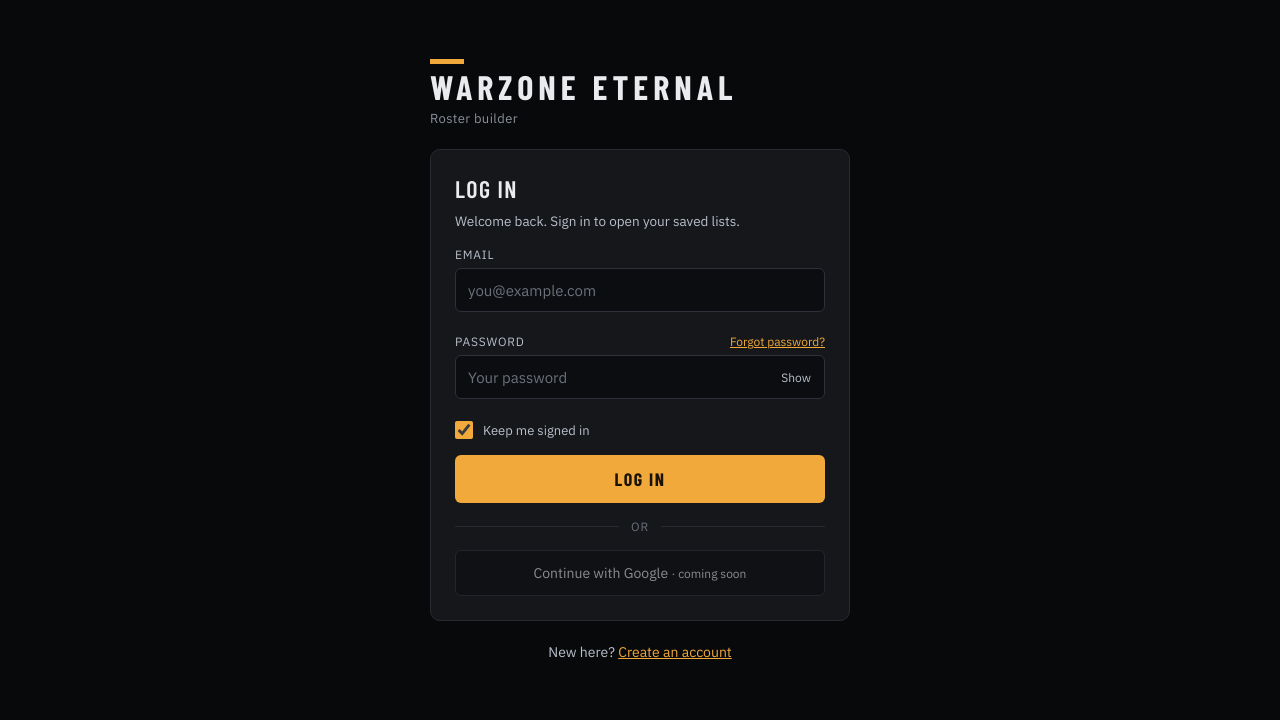
Scenario: builder › asks before leaving with unsaved changes
Type "demo@example.com" into the field labelled "Email".
click(640, 290); type("demo@example.com")  # box left=455, top=268, right=825, bottom=312
Type "Demo1234!" into the password field labelled "Password".
click(640, 377); type("Demo1234!")  # box left=455, top=355, right=825, bottom=399
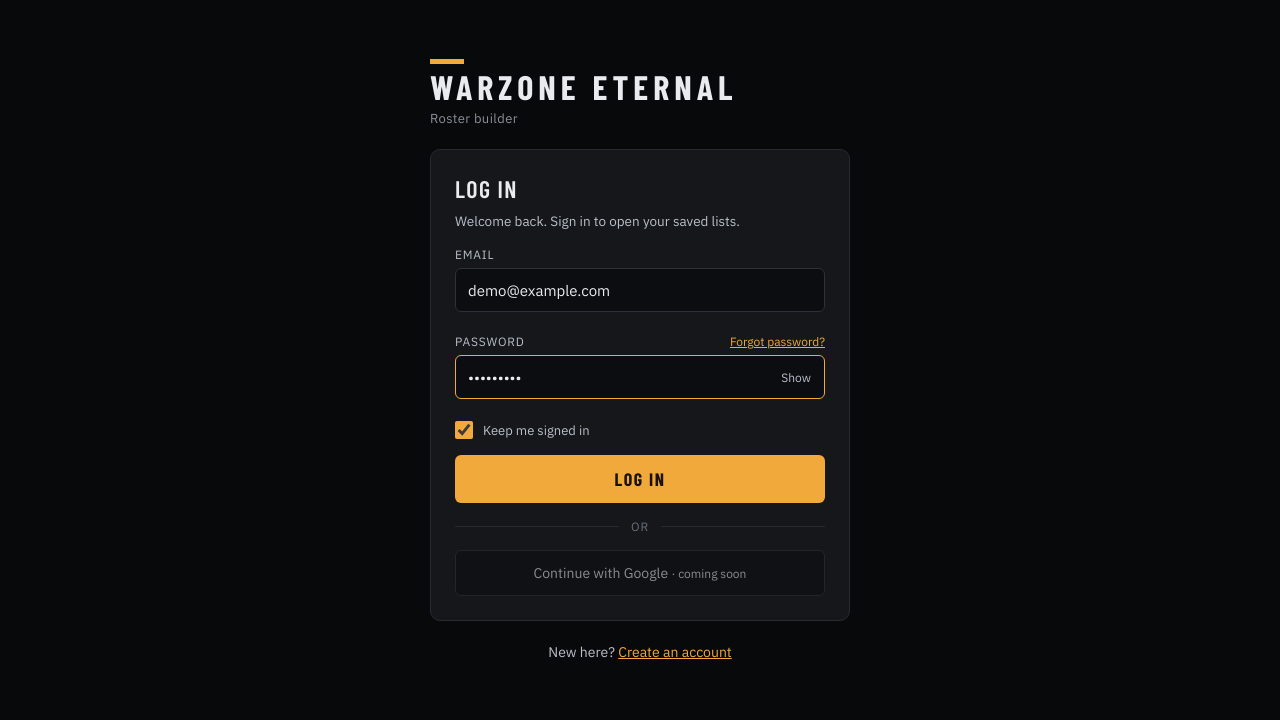
Click the button "Log in".
click(640, 479)  # box left=455, top=455, right=825, bottom=503
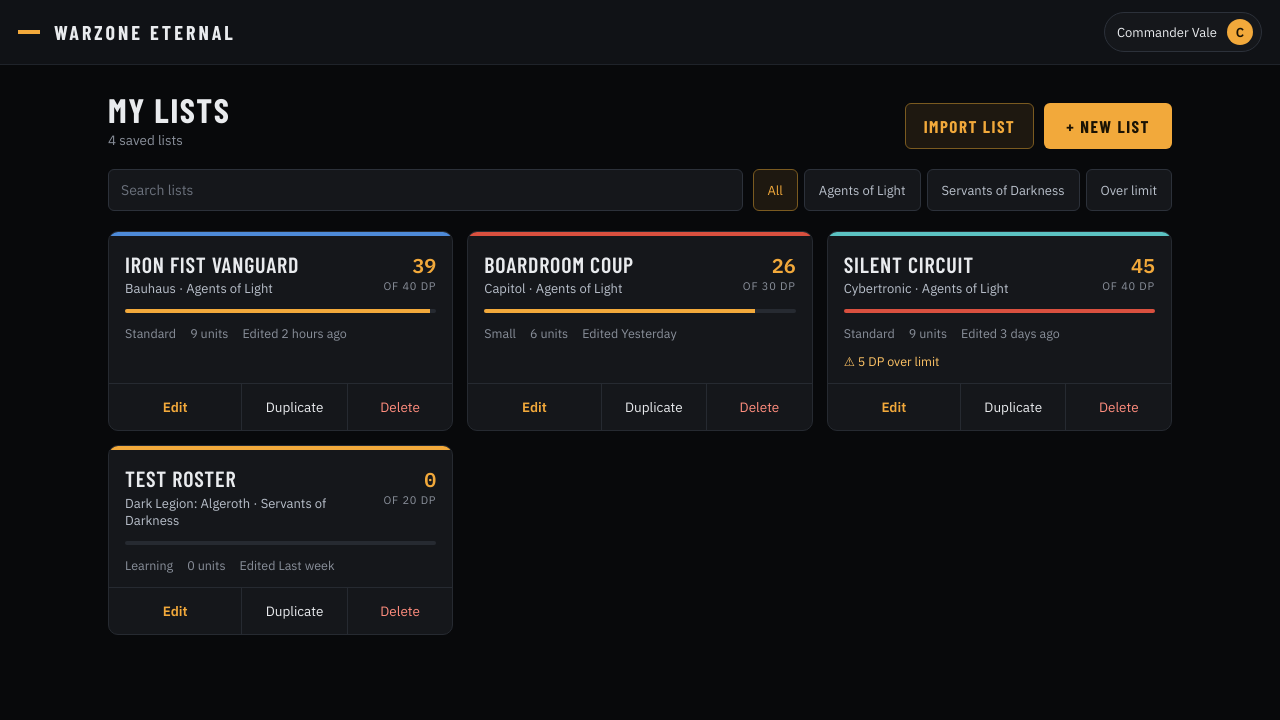
Now the text "4 saved lists" is shown, box left=108, top=131, right=183, bottom=149
Click the button "+ New list".
click(1108, 126)  # box left=1044, top=103, right=1172, bottom=149
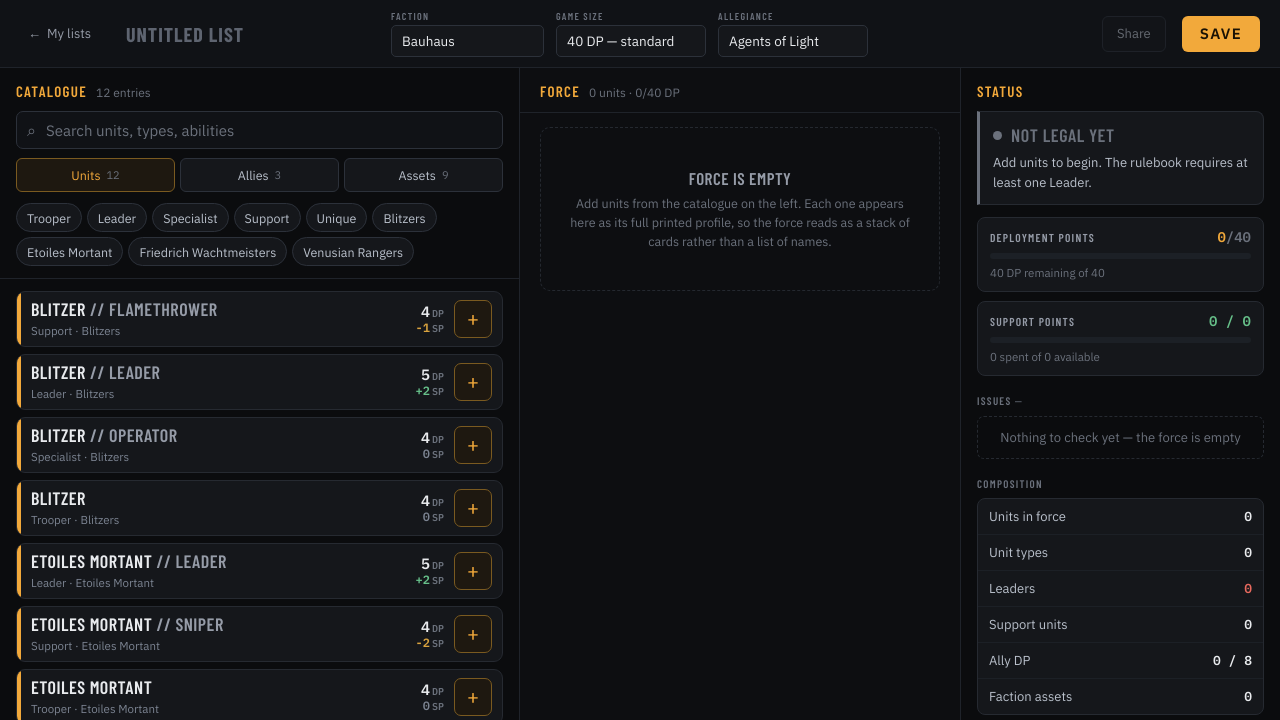
Click the button named "Add Blitzer".
click(473, 508)  # box left=454, top=489, right=492, bottom=527
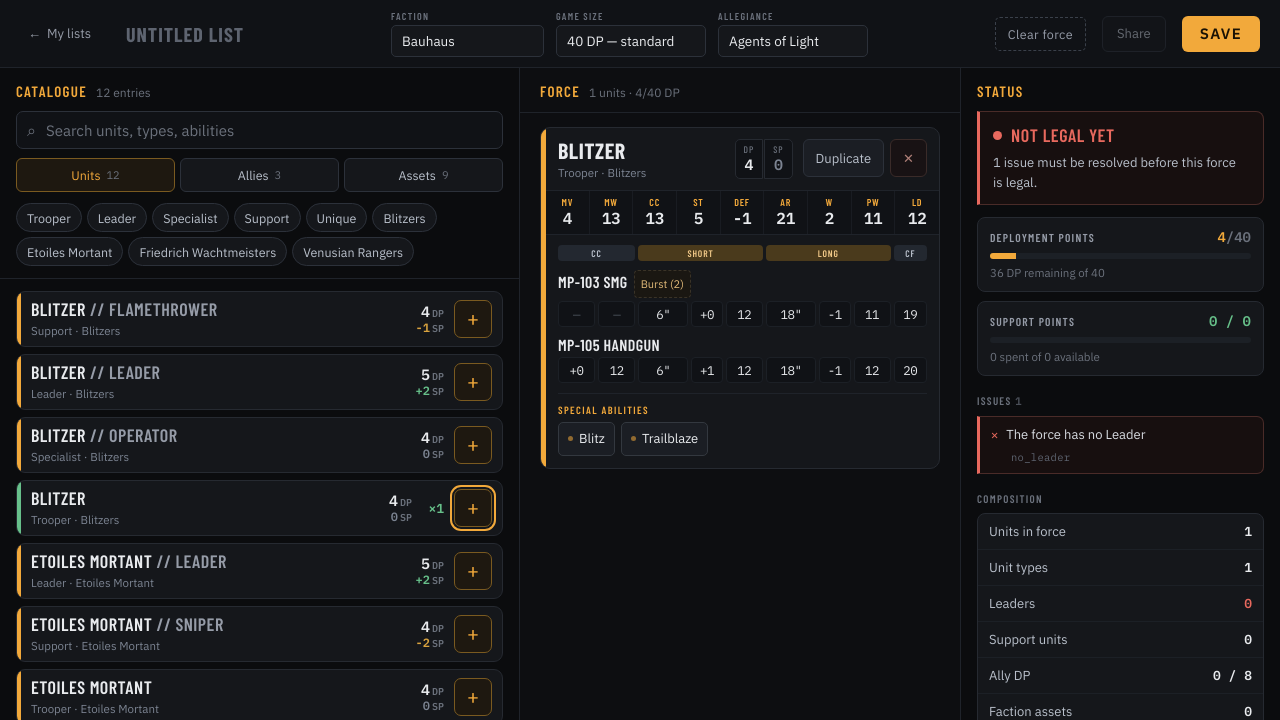
Click the link "← My lists".
click(60, 34)  # box left=28, top=25, right=91, bottom=42
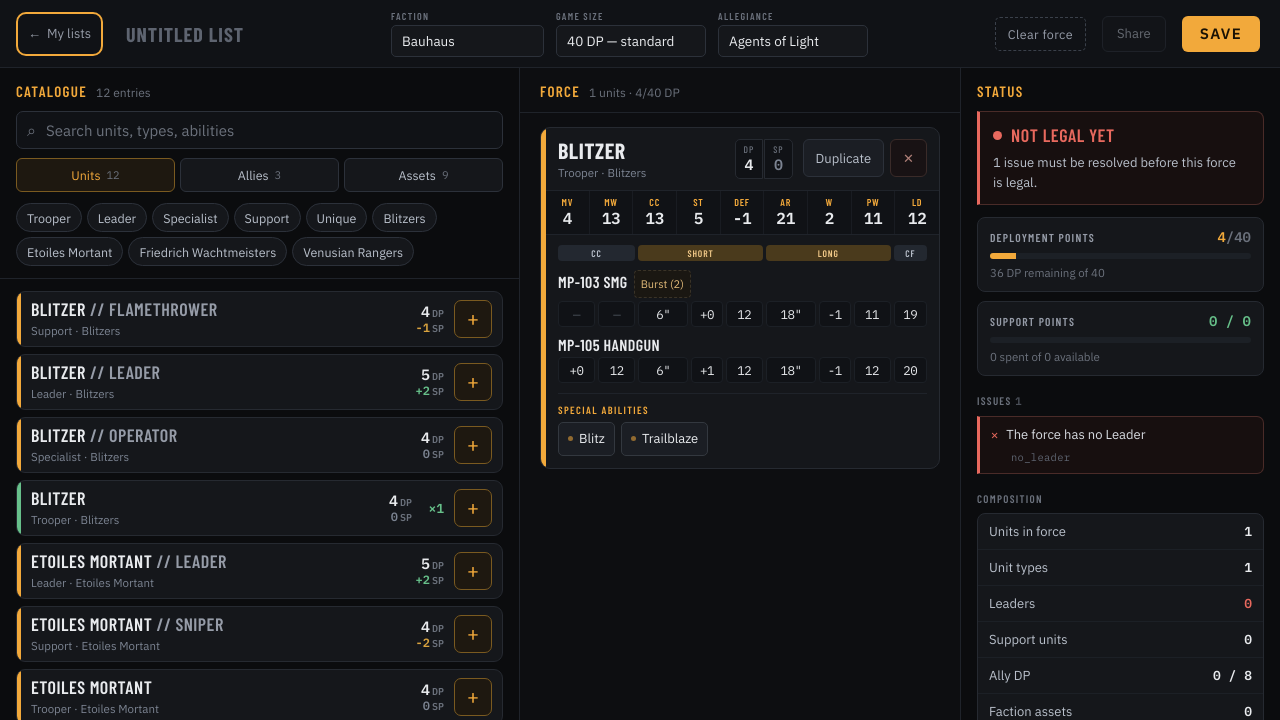
Now the field named "List name" is shown, box left=115, top=16, right=375, bottom=52
Click the link "← My lists".
click(60, 34)  # box left=28, top=25, right=91, bottom=42
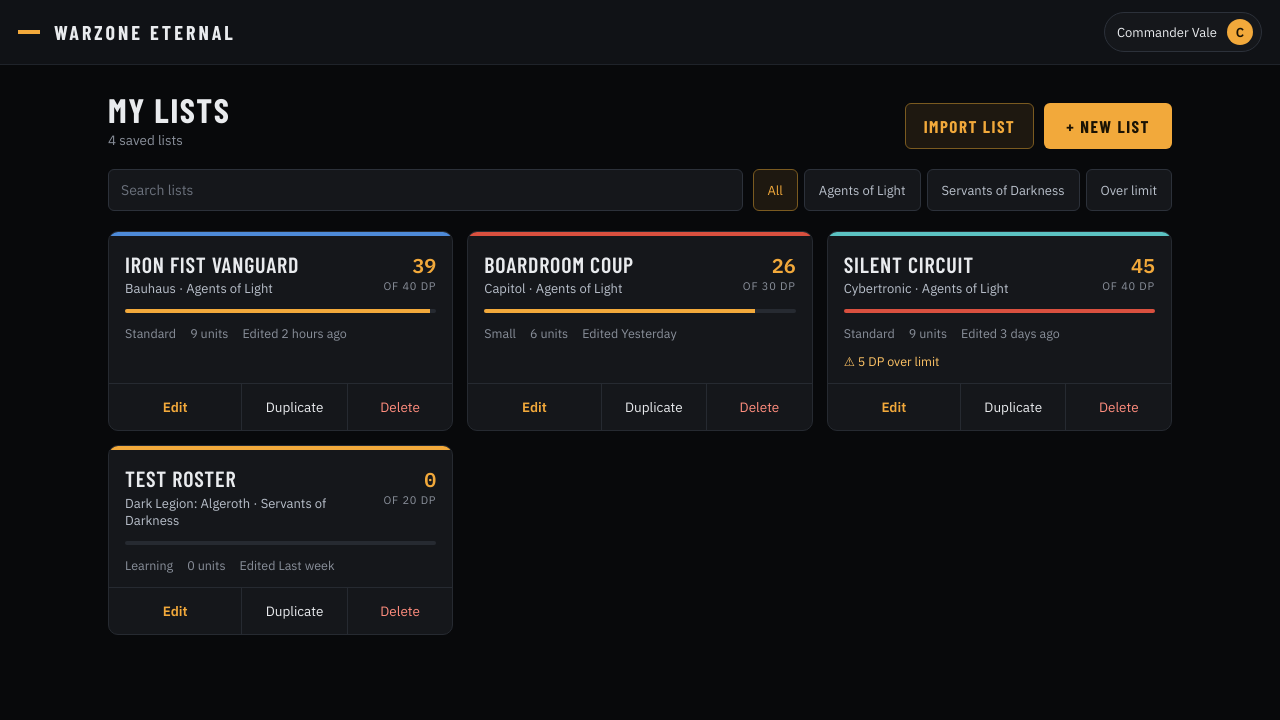
Now the text "4 saved lists" is shown, box left=108, top=131, right=183, bottom=149
